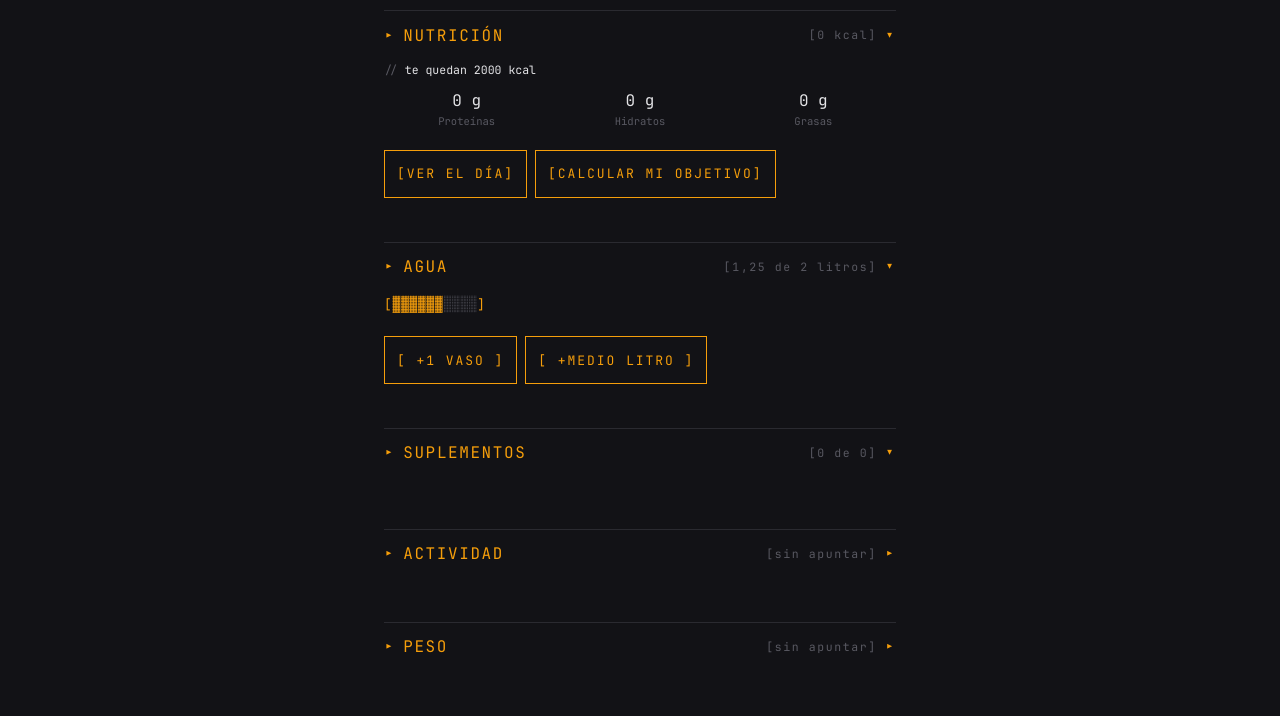
Test: un logro que llega desde una sección abre la ventana del Sistema
(page scrolled)
Click the button "[ +MEDIO LITRO ]": point(616, 360) [525, 336, 707, 384]
(page scrolled)
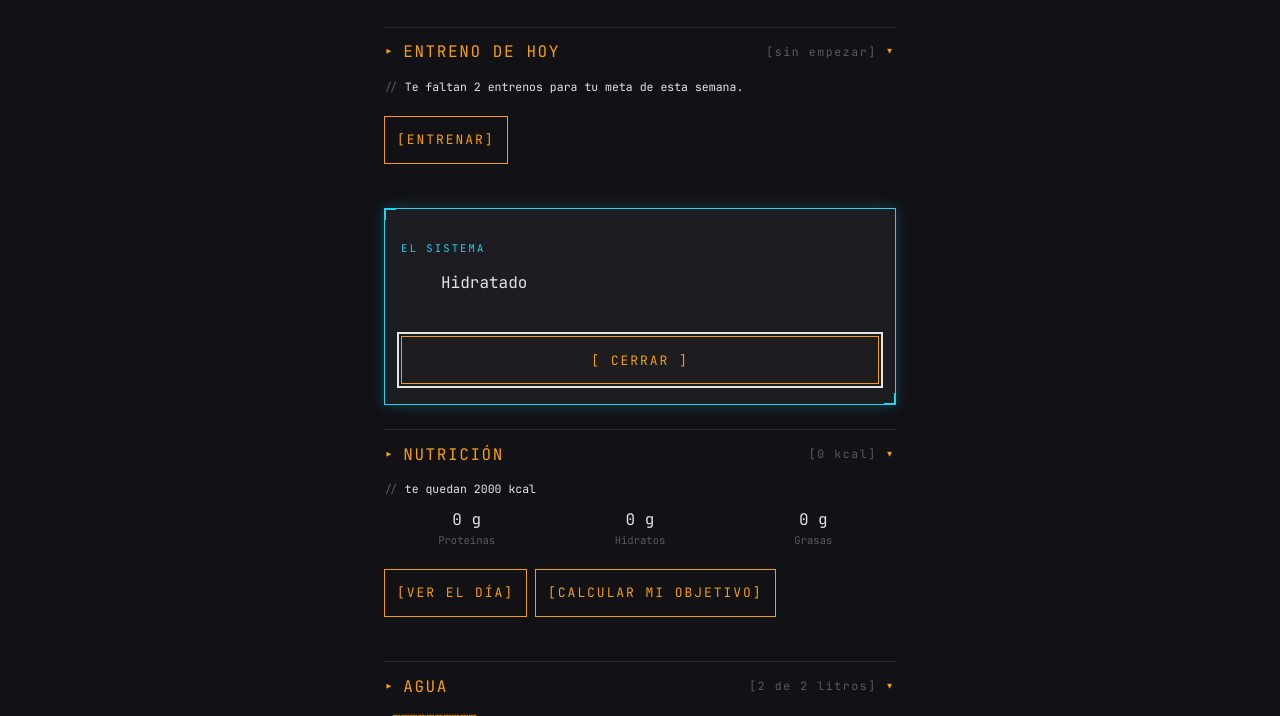
Now the dialog "EL SISTEMA" is shown, box [384, 208, 896, 405]
Now the list item "Hidratado" is shown, box [441, 272, 527, 293]
